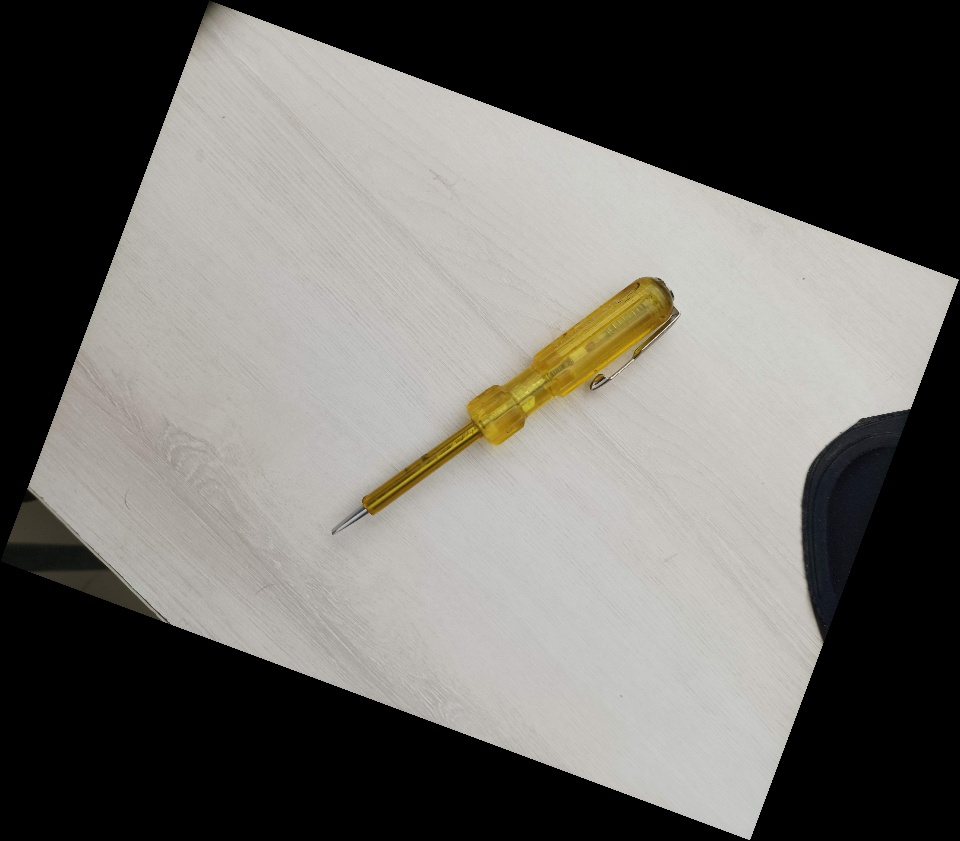screwdriver: (326, 271, 682, 541)
